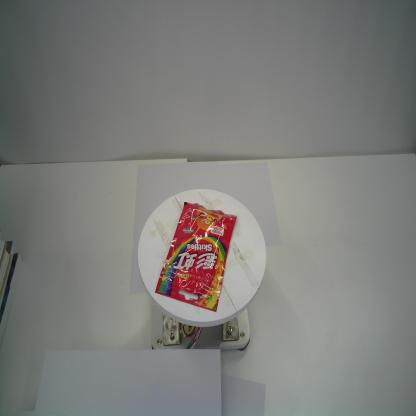Candy: (152, 199, 238, 314)
